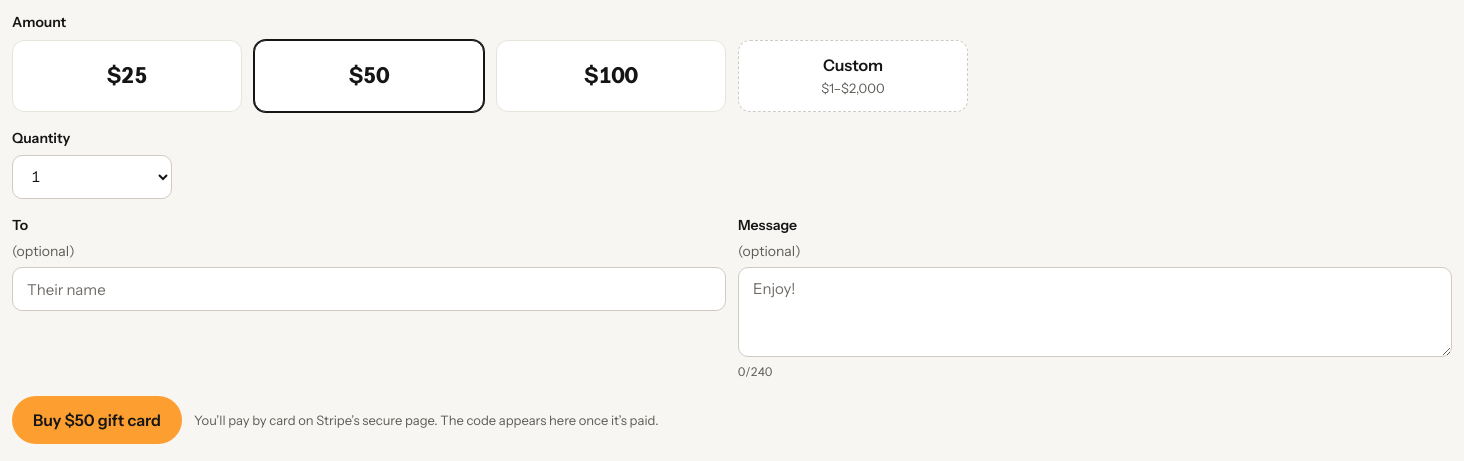
it: buys several cards of the amount at once, totalled on the button
Select "3" in the dropdown labelled "Quantity" at [92, 177], box [12,155,172,199]
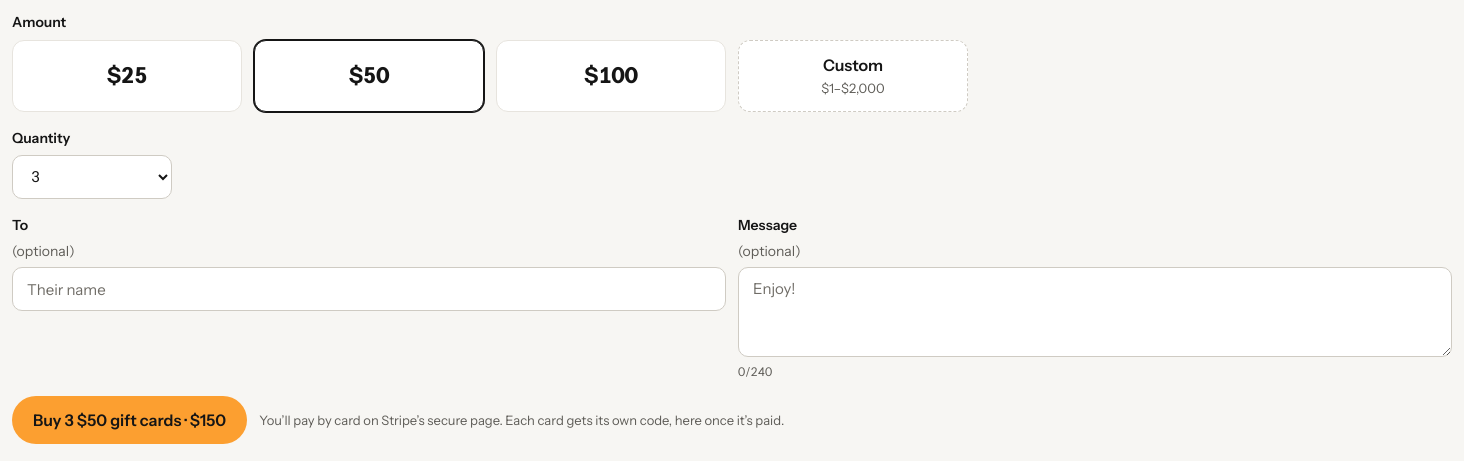
expect the button "Buy 3 $50 gift cards · $150" is enabled: met, box [12,396,247,444]
expect the text "Each card gets its own code" is shown: met, box [259,412,784,428]
